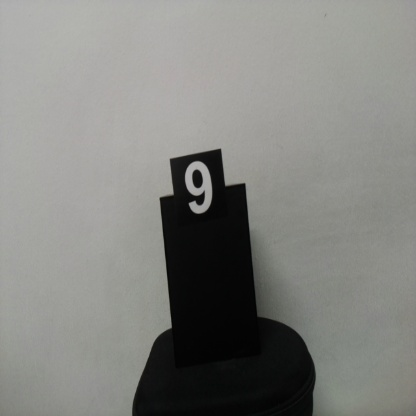id_9: (172, 160, 226, 240)
